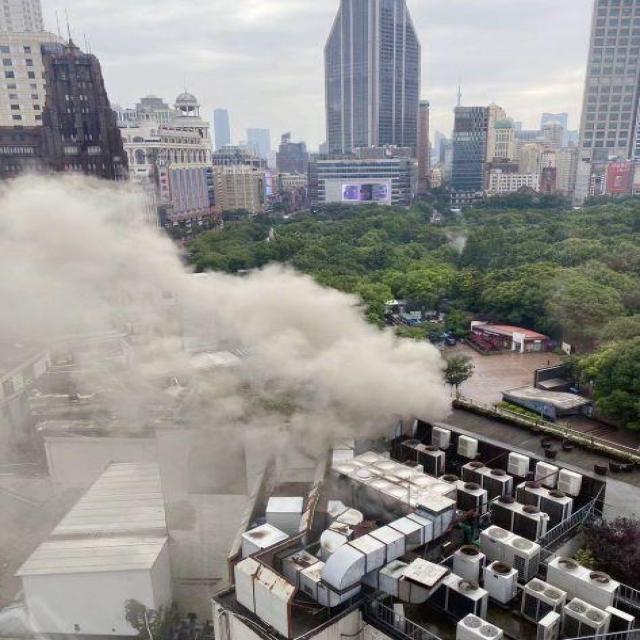Smoke: (0, 166, 451, 443)
